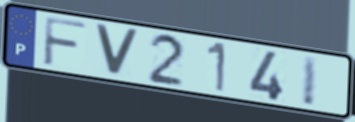1: (205, 41, 227, 95)
2: (146, 32, 187, 90)
4: (247, 48, 289, 103)
F: (41, 14, 90, 69)
I: (300, 53, 321, 108)
V: (92, 21, 142, 79)
